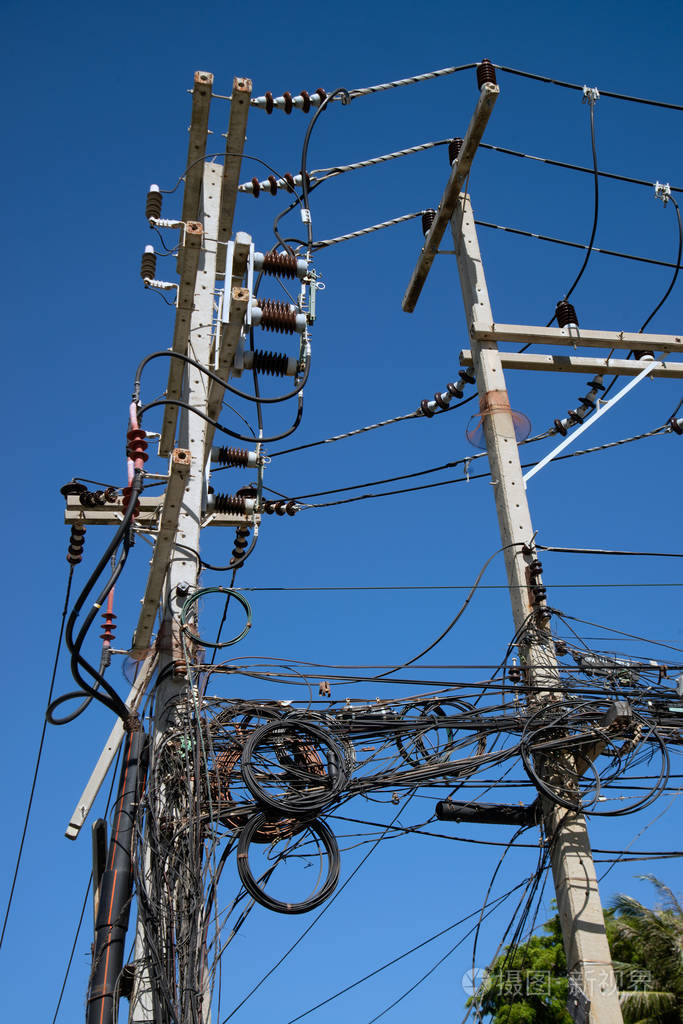insulator: (550, 379, 607, 436), (418, 371, 474, 419), (261, 85, 336, 119), (63, 522, 88, 567), (225, 526, 251, 569), (126, 428, 152, 469), (97, 610, 121, 648), (254, 500, 297, 518), (79, 487, 115, 506)
